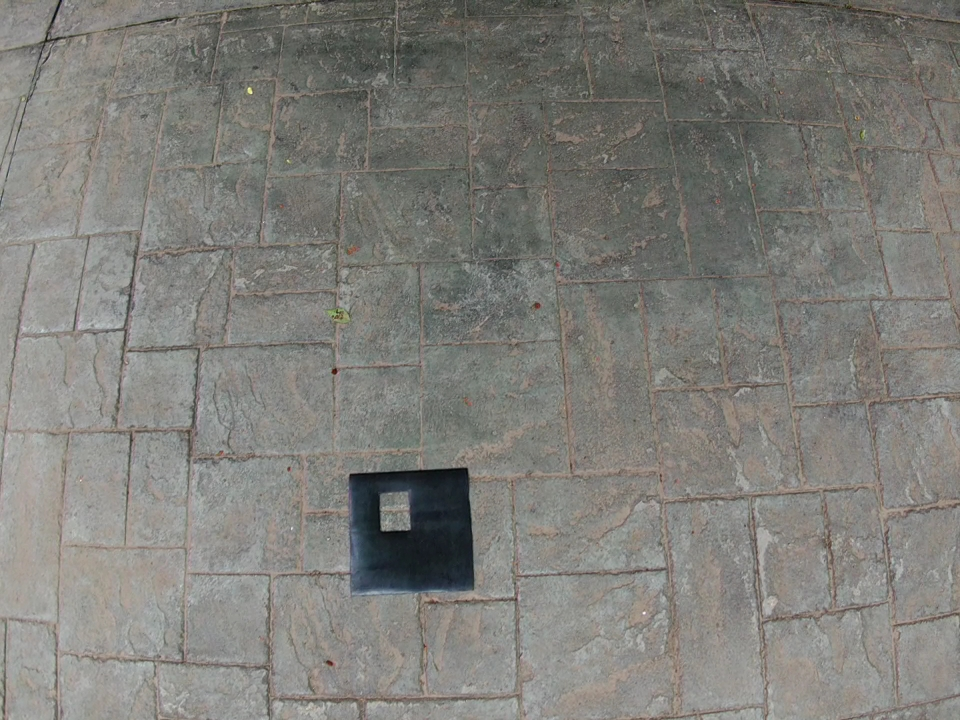qrcode: (348, 467, 474, 591)
